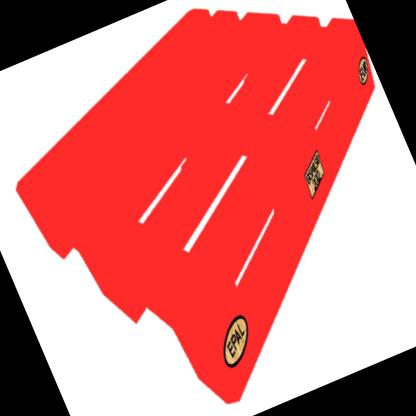BoxFace: (10, 1, 377, 413)
